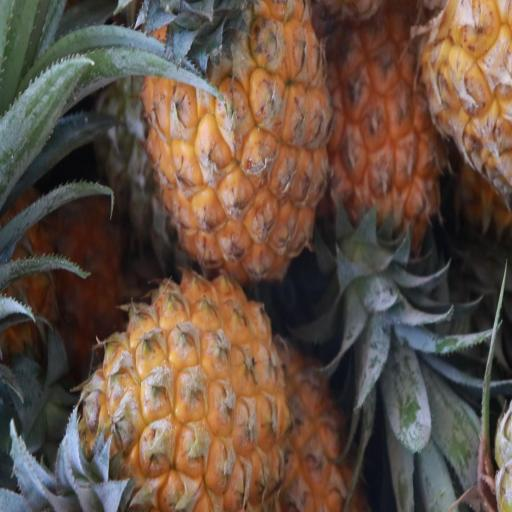Pineapple - v8 v1: (146, 0, 327, 280), (71, 277, 286, 512), (325, 0, 454, 247)
